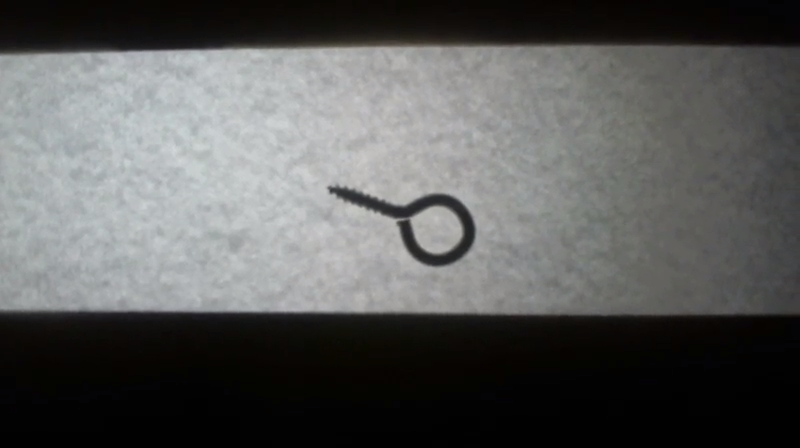O001: (323, 180, 479, 269)
